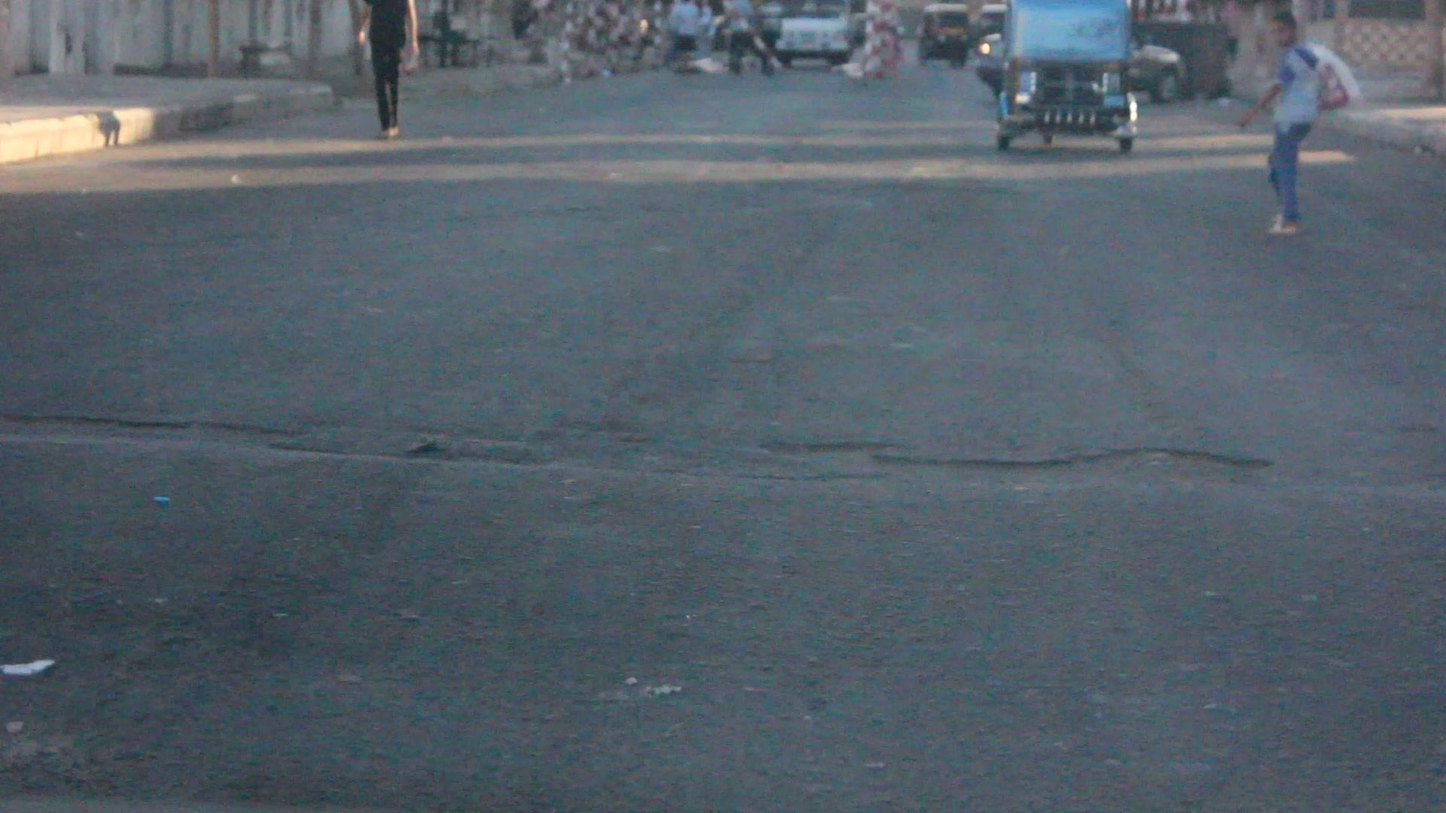Pothole: (23, 415, 1289, 512)
